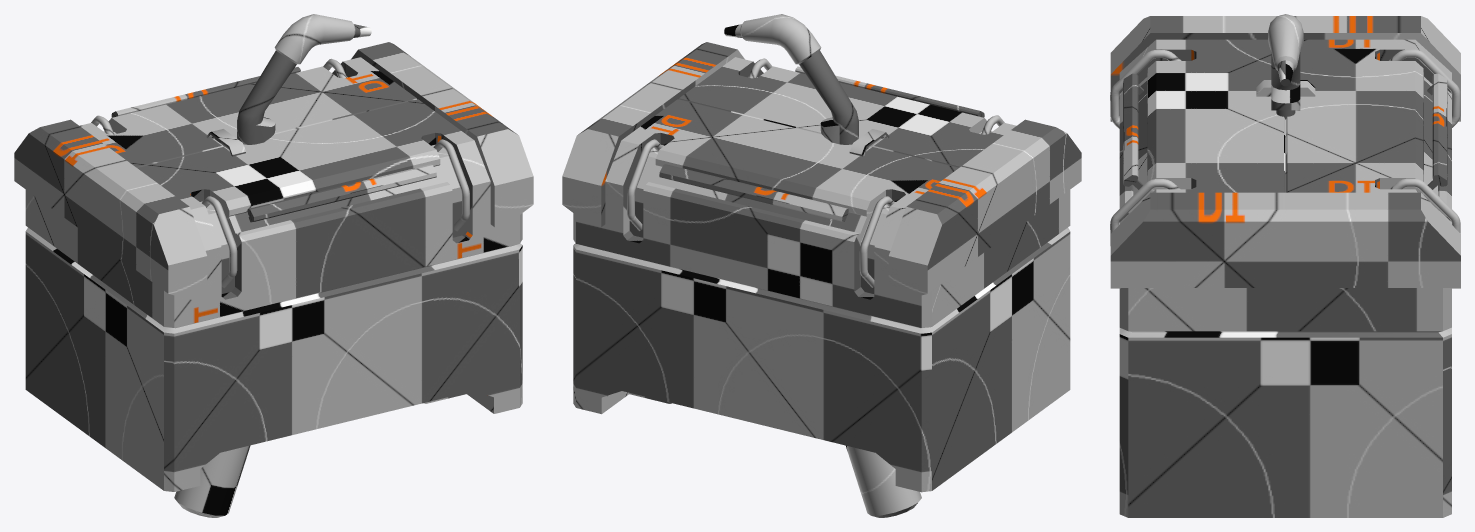
File: Pack_01_Gameready.FBX
The picture shows the model from 3 angles, left to right: view 1: azimuth 30°, elevation 25°; view 2: azimuth 150°, elevation 25°; view 3: azimuth 270°, elevation 25°; orthographic projection. The views are drawn at different scales.
Parts seen in each view (by area): view 1: Object030, Object025; view 2: Object030, Object025; view 3: Object030, Object025.
Boxes of the visible parts, x1=… form: Object030: x1=14, y1=42, x2=533, y2=491; Object025: x1=174, y1=14, x2=371, y2=517; Object030: x1=562, y1=42, x2=1081, y2=492; Object025: x1=724, y1=14, x2=921, y2=517; Object030: x1=1110, y1=16, x2=1460, y2=517; Object025: x1=1256, y1=14, x2=1315, y2=119.
Bounding box in the file's own units: 16447 × 20360 × 12016.
